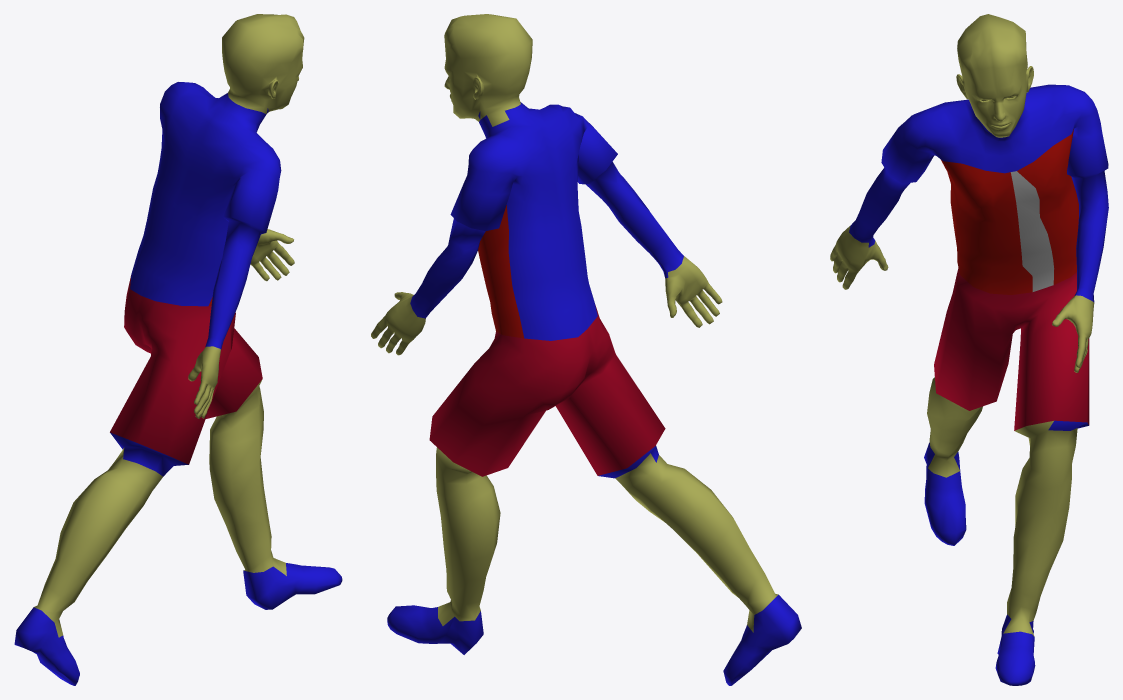
Rendered from player_000015.obj.
The picture shows the model from 3 angles, left to right: view 1: azimuth 30°, elevation 25°; view 2: azimuth 150°, elevation 25°; view 3: azimuth 270°, elevation 25°; orthographic projection. The views are drawn at different scales.
Parts seen in each view (by area): view 1: soccerplayer_mesh; view 2: soccerplayer_mesh; view 3: soccerplayer_mesh.
Part boxes in pixels (bbox=[...]): soccerplayer_mesh: bbox=[14, 14, 342, 685]; soccerplayer_mesh: bbox=[371, 14, 801, 685]; soccerplayer_mesh: bbox=[830, 14, 1108, 685].
Bounding box in the file's own units: 3.16 × 5.09 × 2.04.
